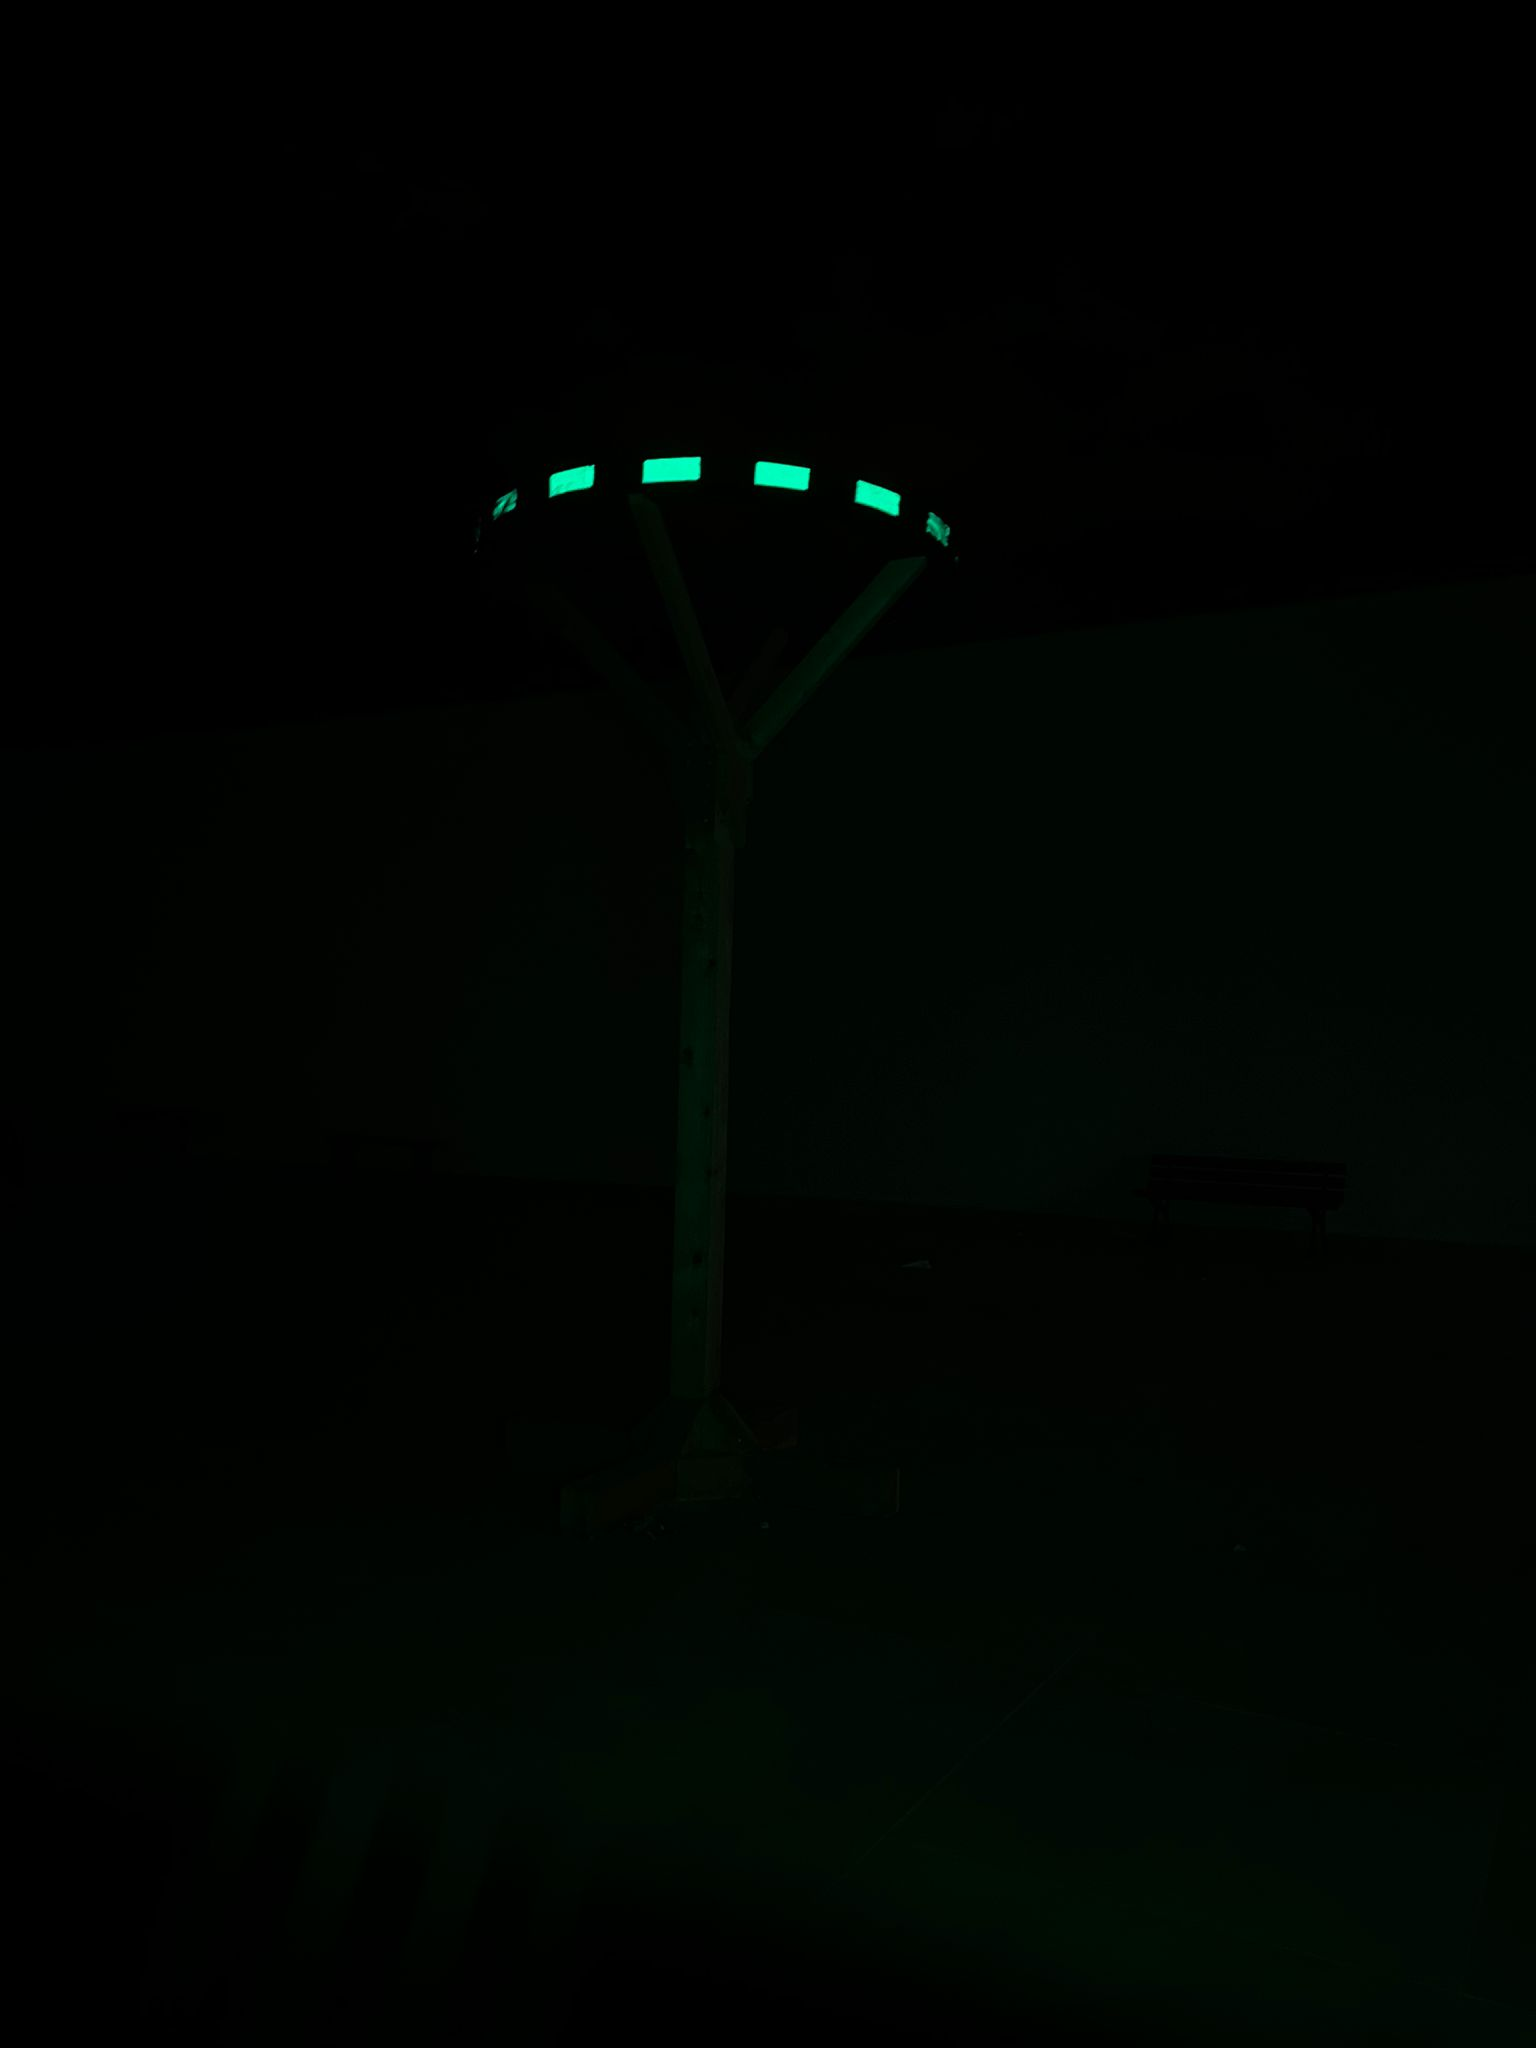hoop: (479, 450, 957, 552)
